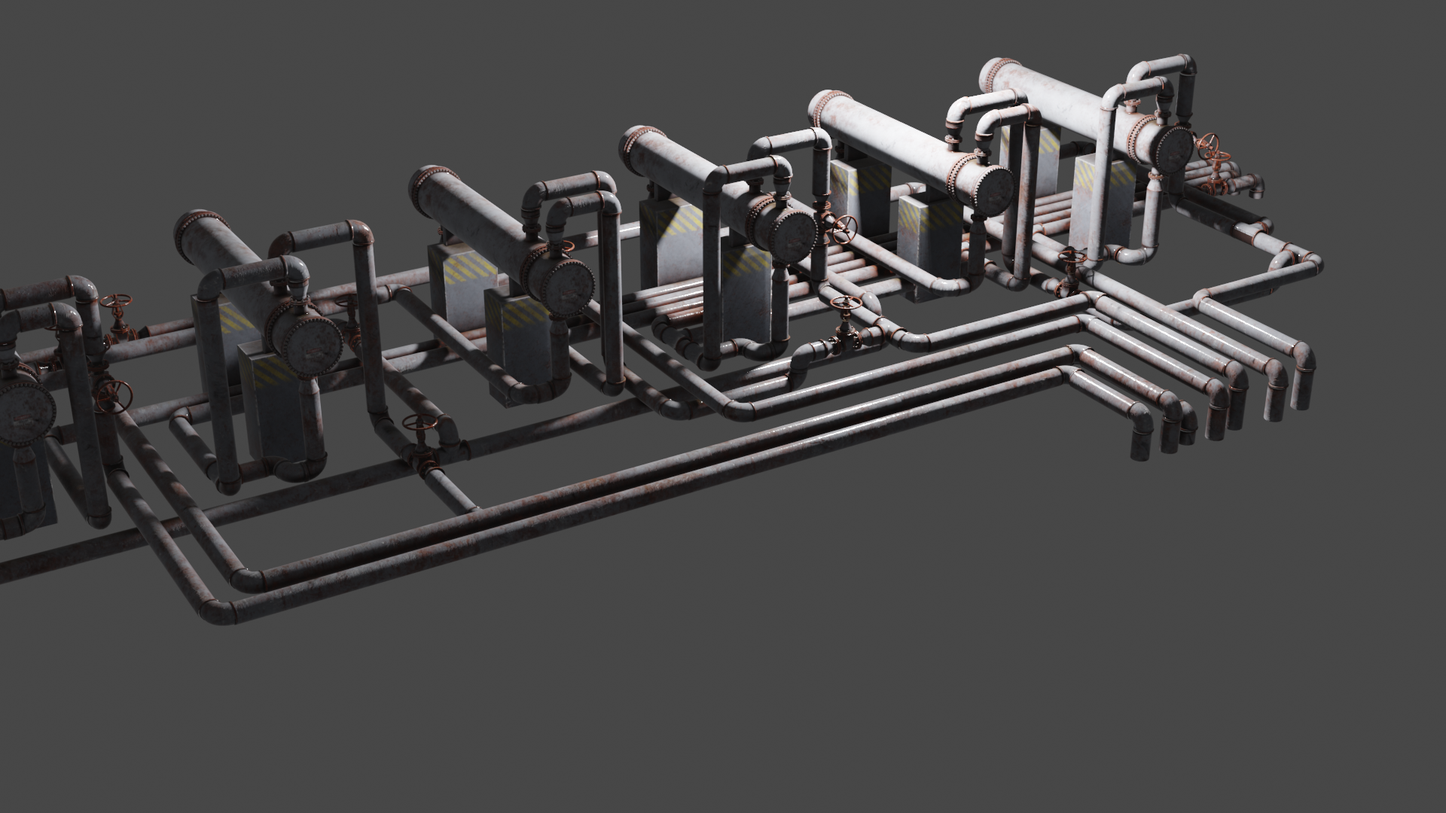HE_1: (1, 358, 54, 442)
HE_2: (175, 208, 341, 376)
HE_3: (411, 159, 595, 313)
HE_4: (619, 125, 819, 258)
HE_5: (804, 87, 1015, 208)
HE_6: (974, 51, 1192, 171)
